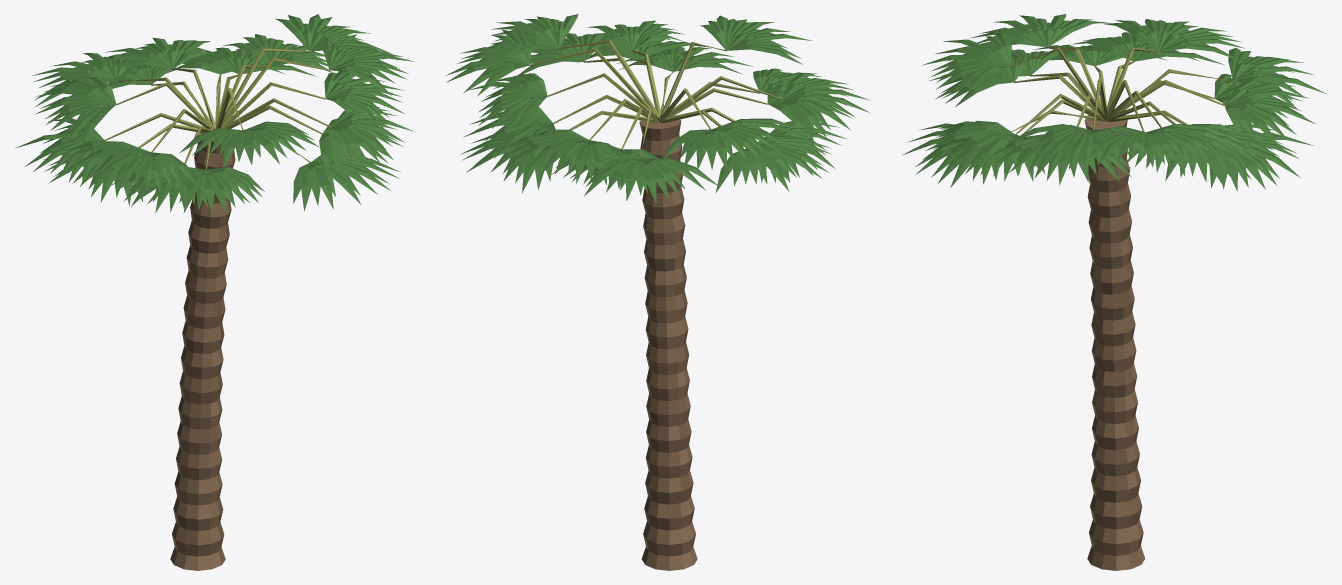
Rendered from fan_palm_lod0.glb.
3 renders of one model, left to right at view 1: azimuth 30°, elevation 25°; view 2: azimuth 150°, elevation 25°; view 3: azimuth 270°, elevation 25°, orthographic. The views are drawn at different scales.
Visible parts, largest first — view 1: fan_palm; view 2: fan_palm; view 3: fan_palm.
Boxes of the visible parts, x1,y1,x2,y2 form: fan_palm: (15, 14, 414, 570); fan_palm: (445, 14, 870, 570); fan_palm: (902, 14, 1326, 570).
Size of the model in its own units: 5.11 by 6.69 by 5.04.
